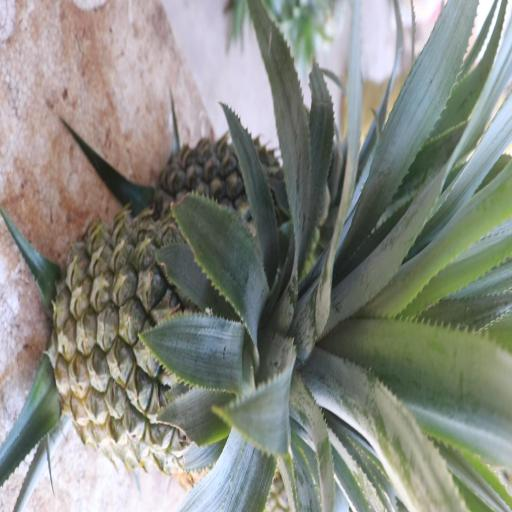------------------------------: (52, 215, 284, 466)
